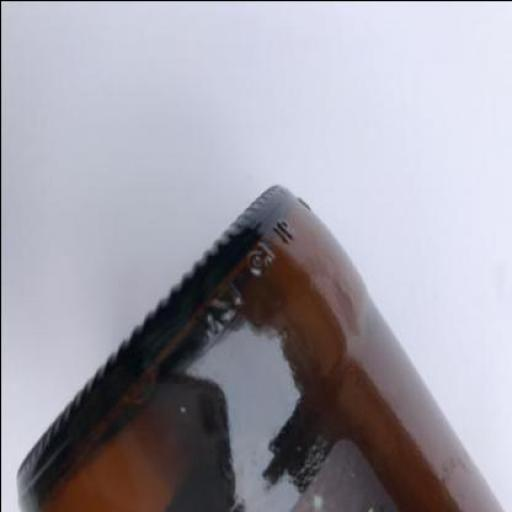glass: (16, 181, 503, 511)
